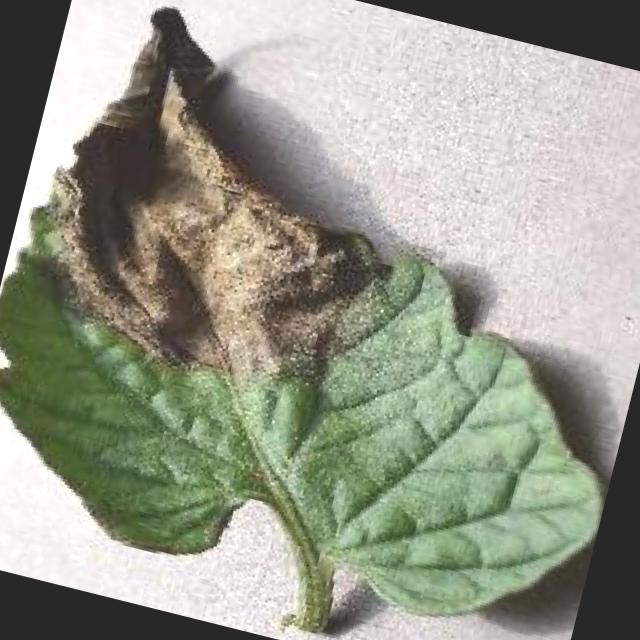leaf blight: (0, 12, 606, 621)
